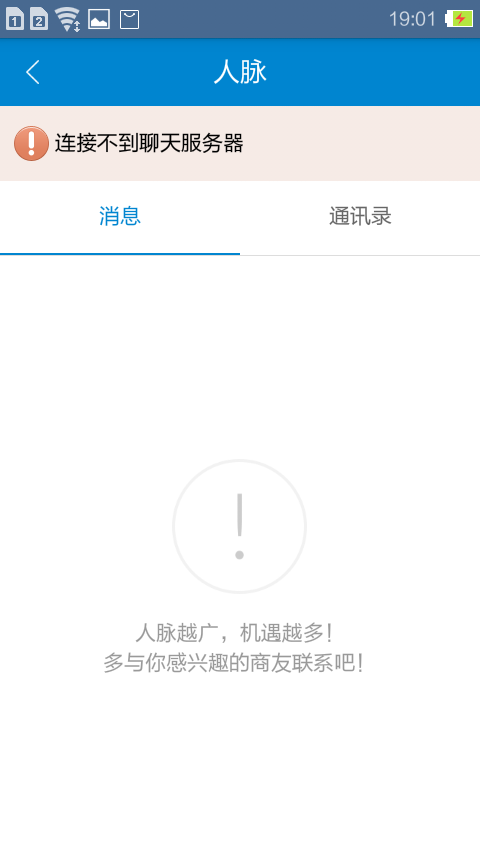imgview: (160, 451, 316, 601)
